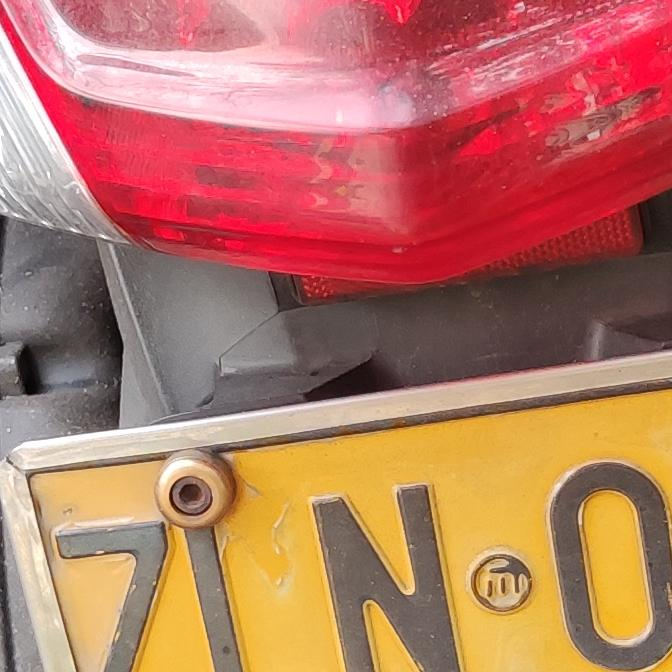plates: (3, 356, 672, 672)
